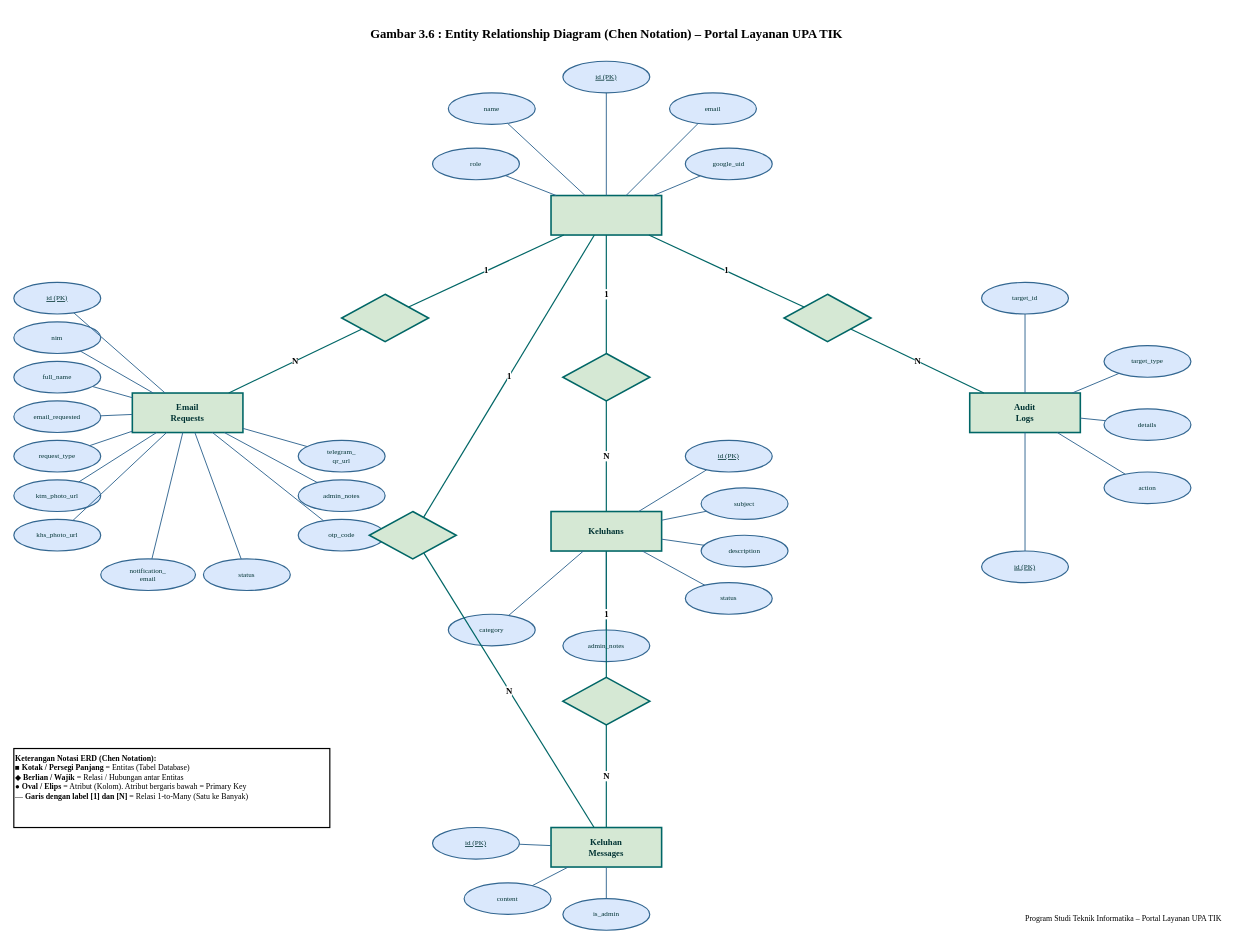
This 1236x944 diagram has some shape labels left out. Here are the shapes that lost their labels. From the top down, the centre of each, then its label:
At (606,214): "Users".
At (384,317): "Mengajukan".
At (827,317): "Melakukan".
At (606,376): "Melaporkan".
At (412,534): "Menulis".
At (606,700): "Memiliki".
